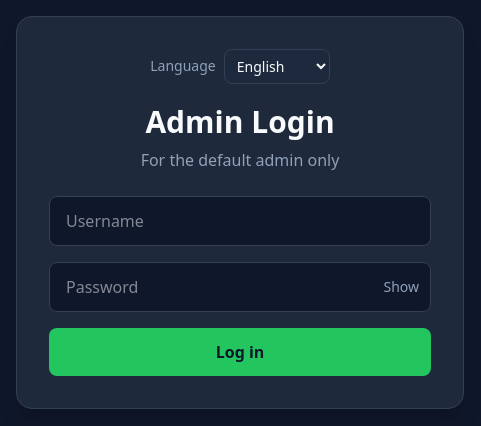
public authentication language surfaces › localizes the admin login labels and password toggle
Expected: the dropdown labelled "Language" is shown, [224,48,330,84]
Expected: the heading "Admin Login" is shown, [145,100,335,142]
Click the button "Show" at [401, 286], box [384,276,419,296]
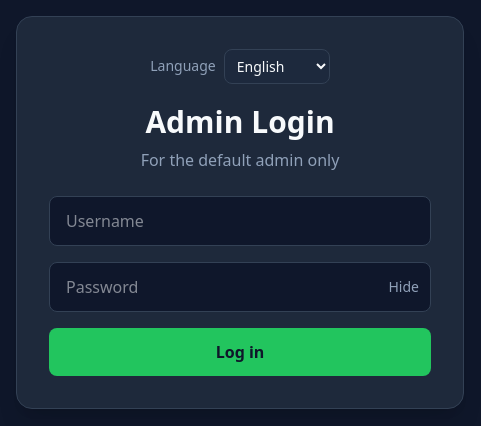
Now the button "Hide" is shown, box [388,276,419,296]
